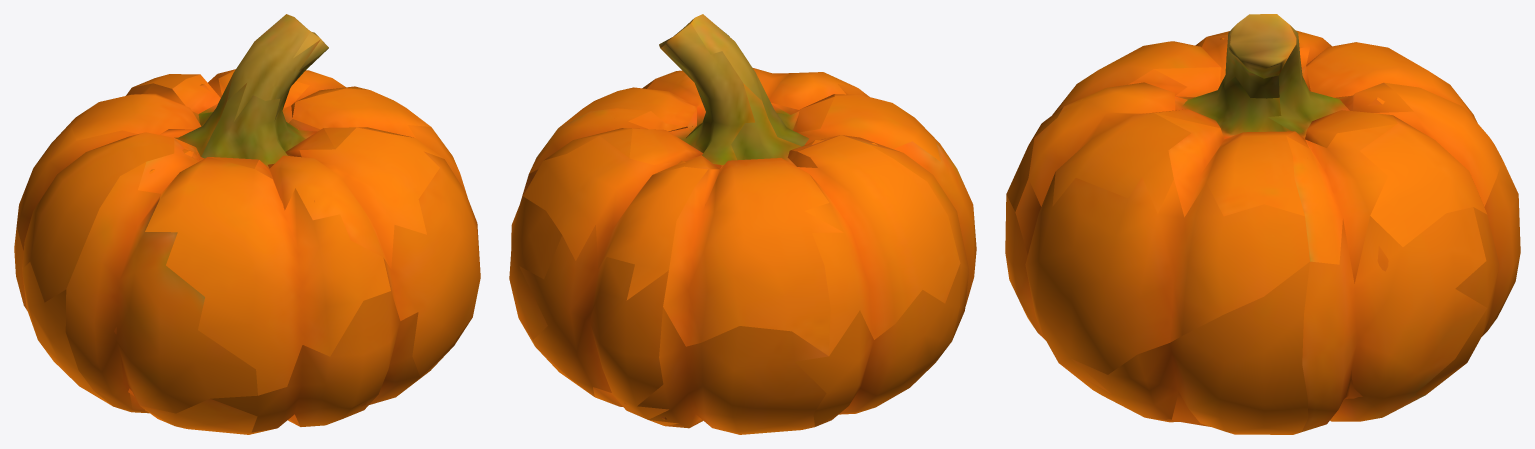
File: pumpkin.glb
3 renders of one model, left to right at view 1: azimuth 30°, elevation 25°; view 2: azimuth 150°, elevation 25°; view 3: azimuth 270°, elevation 25°, orthographic. The views are drawn at different scales.
Bounding box in the file's own units: 0.9961 × 0.8398 × 1.
Materials: 1 (1 with a texture image).
